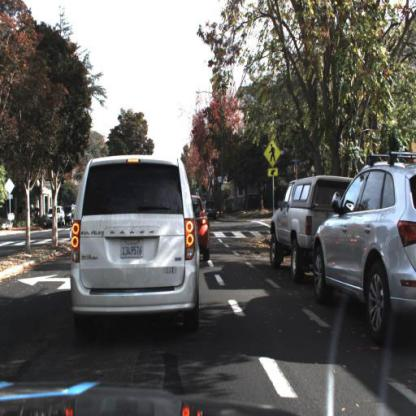car: (66, 154, 202, 340), (310, 150, 416, 346), (269, 173, 358, 281), (187, 195, 213, 263), (241, 189, 264, 215), (45, 204, 68, 229)
pedestrian: (32, 202, 42, 231)
